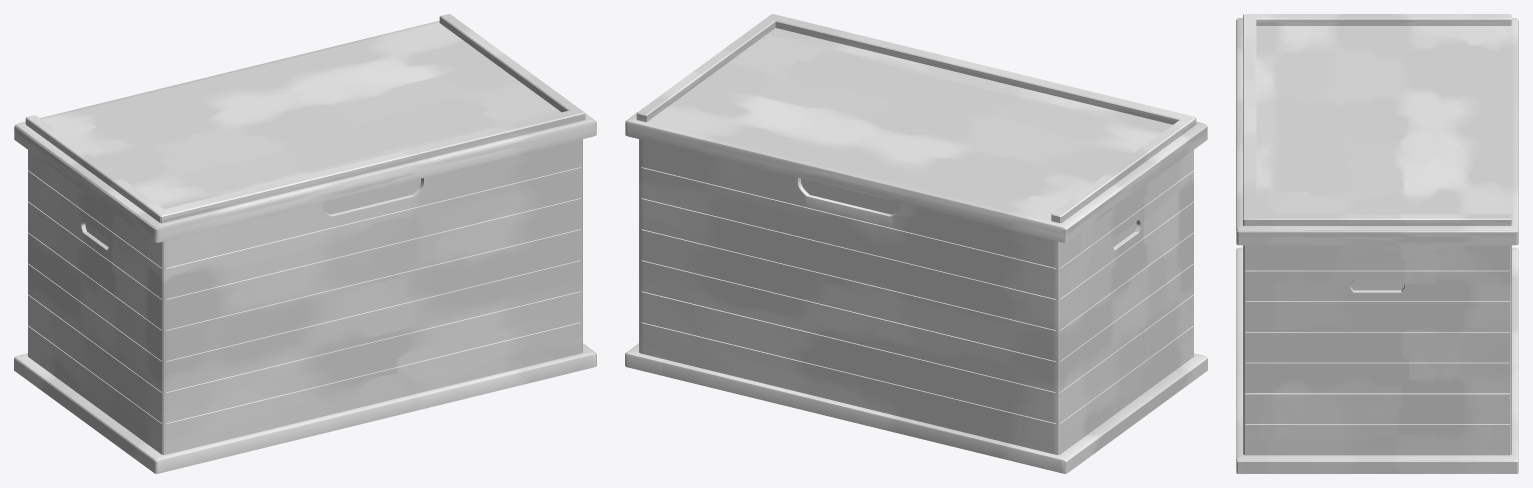
The model's file is chest.fbx.
The picture shows the model from 3 angles, left to right: view 1: azimuth 30°, elevation 25°; view 2: azimuth 150°, elevation 25°; view 3: azimuth 270°, elevation 25°; orthographic projection.
Parts seen in each view (by area): view 1: chest, chest_top; view 2: chest, chest_top; view 3: chest_top, chest.
Boxes of the visible parts, bbox=[...] form: chest: bbox=[14, 139, 596, 473]; chest_top: bbox=[14, 14, 596, 242]; chest: bbox=[625, 139, 1207, 473]; chest_top: bbox=[625, 14, 1207, 242]; chest_top: bbox=[1236, 14, 1518, 245]; chest: bbox=[1236, 245, 1518, 473].
Size of the model in its own units: 1.14 by 0.6275 by 0.64.
Materials: 2 (2 with a texture image).
